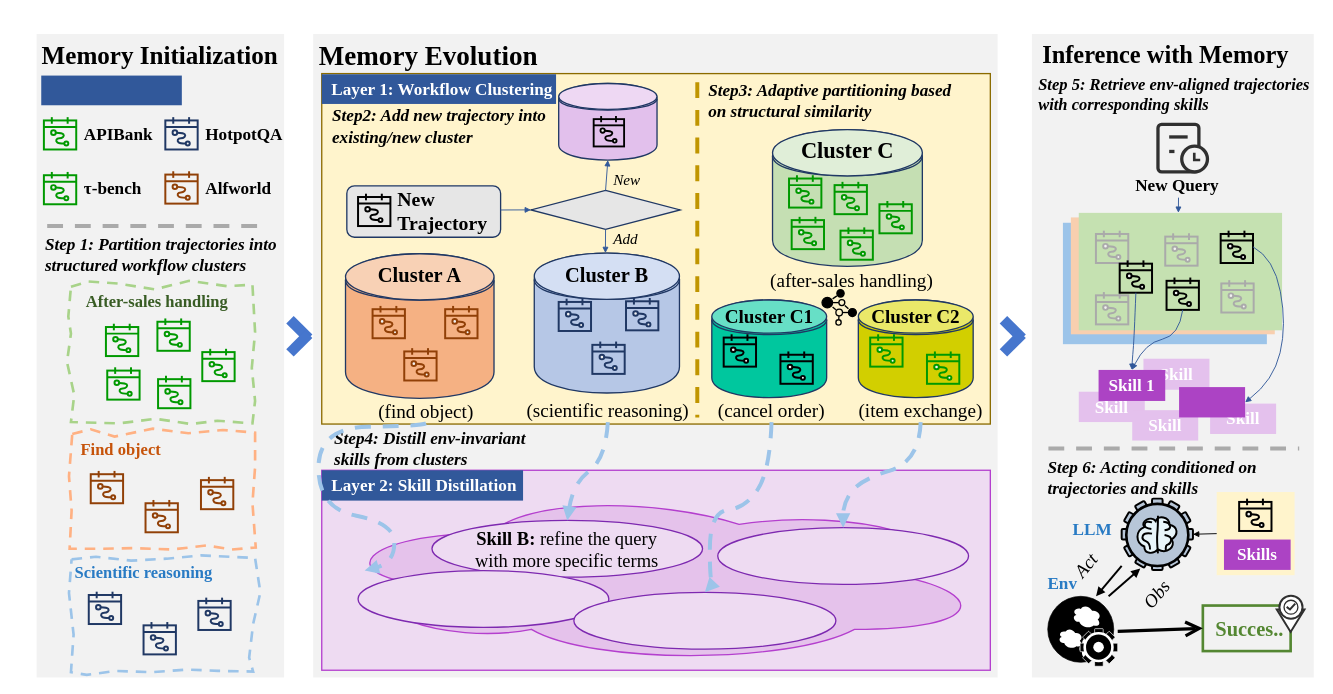
Image size: 1333x694. Some labels were removed from this diagram. Here are the shapes that lost their labels. From the top down, the centre of each, then its label:
the point at 111,90: Learning Tasks
the point at 607,96: New cluster
the point at 605,209: Select
the point at 1212,402: Skill 2
the point at 843,556: Skill C2: verify the availability of the request..
the point at 483,599: Skill A: first look your surroundings...
the point at 704,620: Skill C1: verify user- id and order status...
